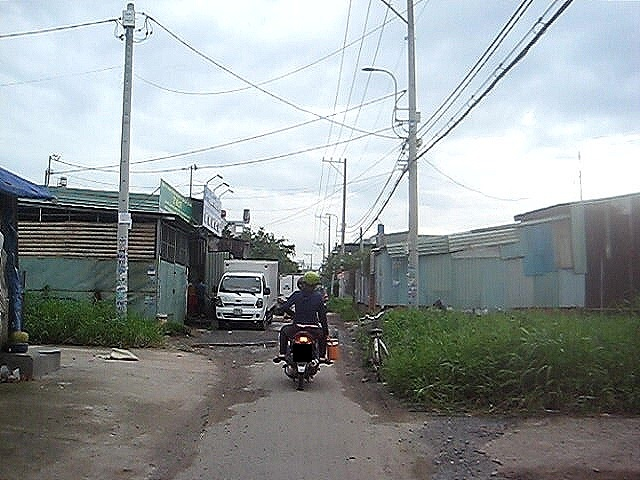hole: (188, 341, 277, 348)
